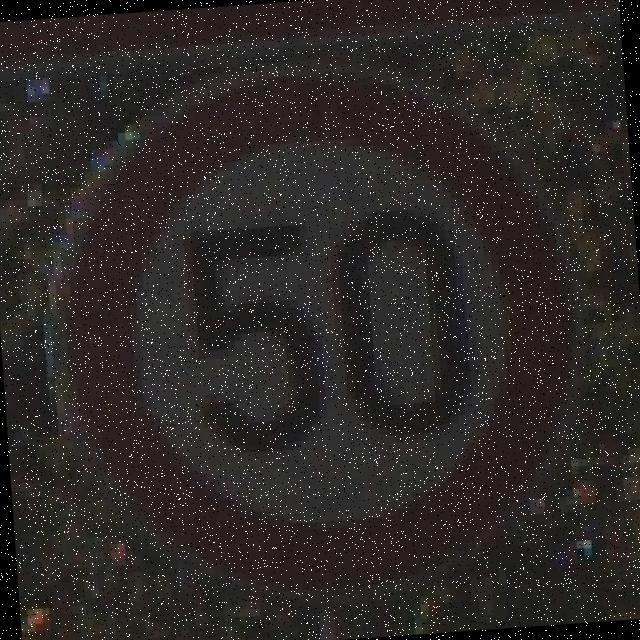Ograniczenie predkosci do 50: (39, 55, 592, 612)
